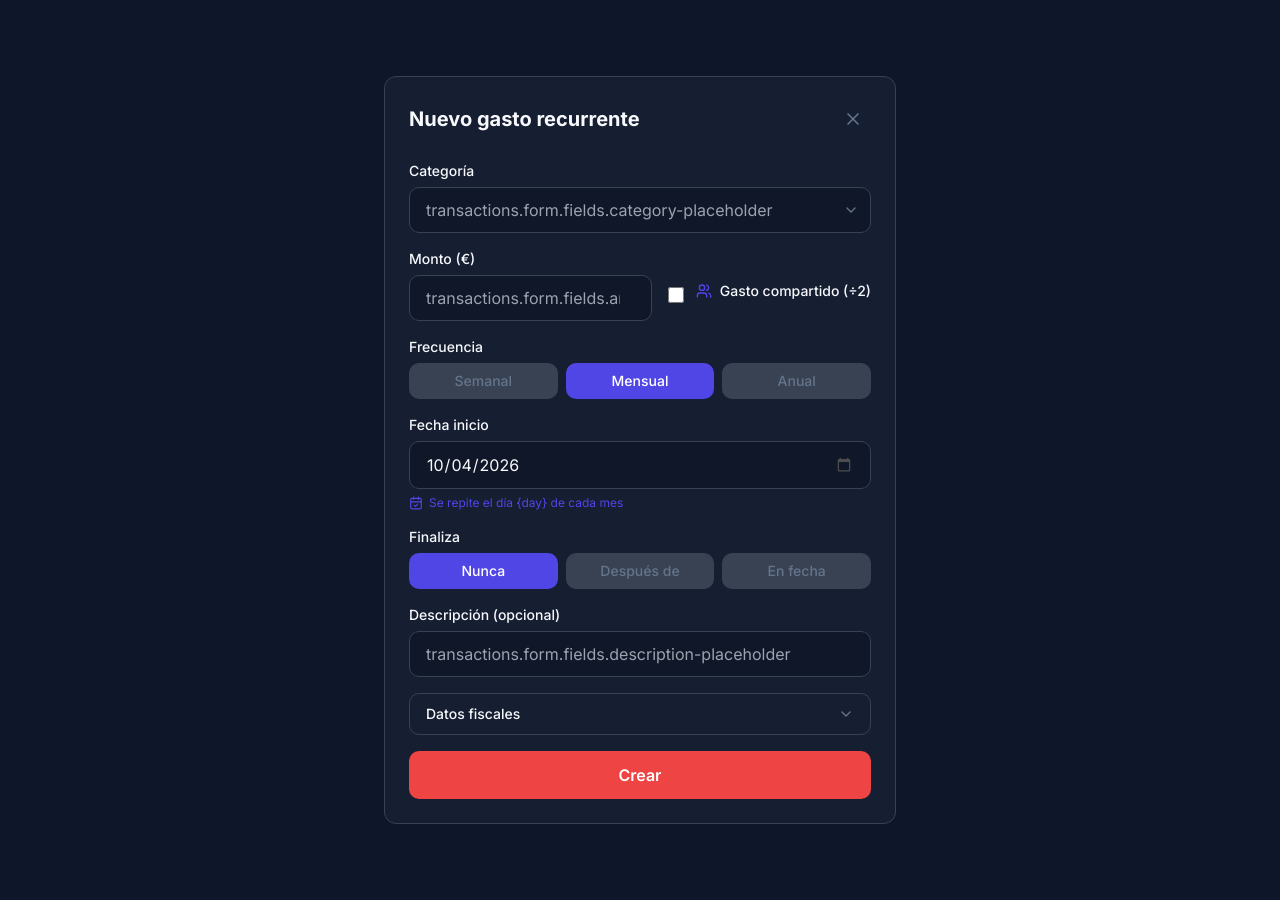
Scenario: RecurringExpenseForm — Create mode › should show date picker when On date is selected
Click the button "En fecha" at (797, 571), box [722,553,871,589]
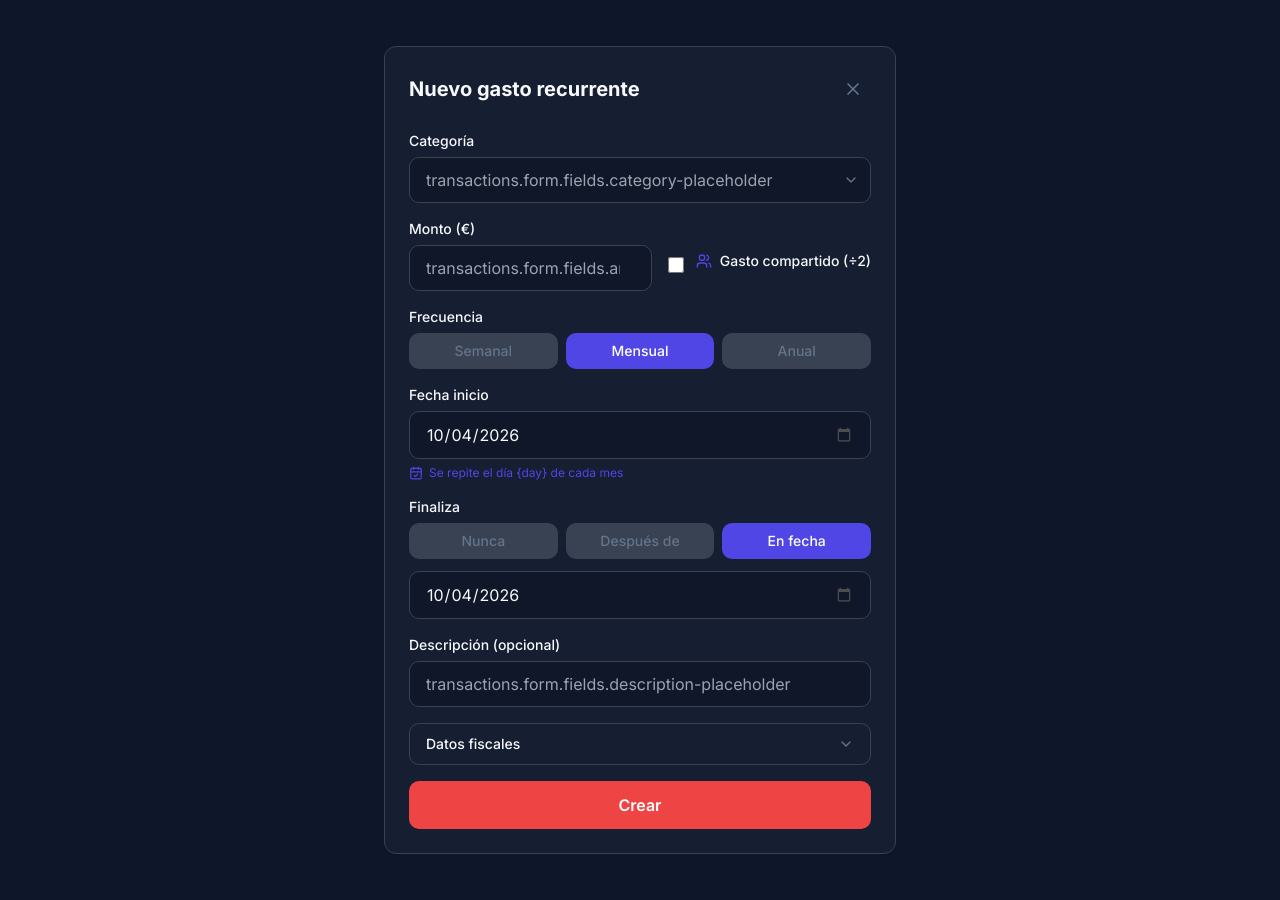
Expected: the date field with id "re-endDate" is shown, [409,571,871,619]
